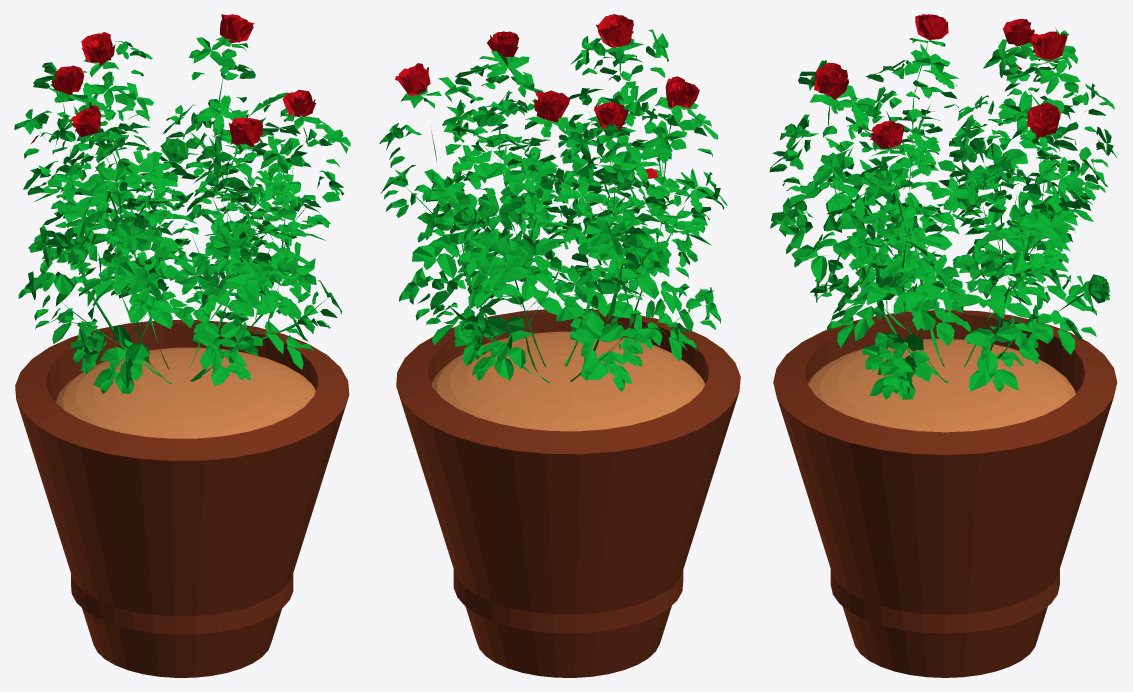
File: p3rose2.fbx
The picture shows the model from 3 angles, left to right: view 1: azimuth 30°, elevation 25°; view 2: azimuth 150°, elevation 25°; view 3: azimuth 270°, elevation 25°; orthographic projection. The views are drawn at different scales.
Parts seen in each view (by area): view 1: Cylinder, sub01, Sphere; view 2: Cylinder, sub01, Sphere; view 3: Cylinder, sub01, Sphere.
Boxes of the visible parts, left/top/right/bottom form: Cylinder: left=15, top=320, right=349, bottom=677; sub01: left=14, top=14, right=350, bottom=394; Sphere: left=55, top=347, right=315, bottom=438; Cylinder: left=396, top=309, right=740, bottom=677; sub01: left=379, top=14, right=727, bottom=391; Sphere: left=431, top=331, right=704, bottom=431; Cylinder: left=773, top=309, right=1117, bottom=677; sub01: left=769, top=14, right=1117, bottom=399; Sphere: left=807, top=338, right=1075, bottom=432.
Bounding box in the file's own units: 243 × 459 × 247.
